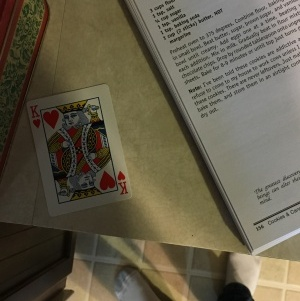card: (25, 85, 134, 216)
